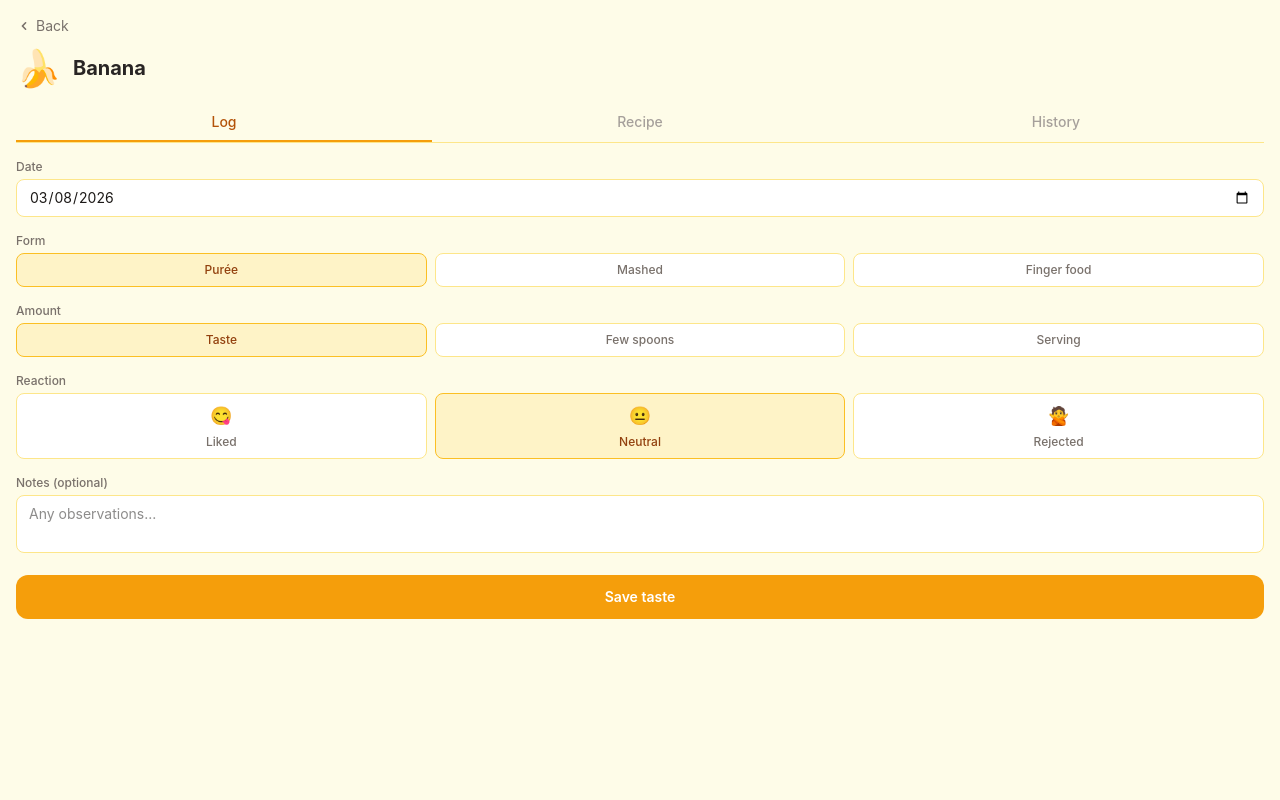
Test: logging a taste via the UI › button shows 'Saved!' feedback after saving
Click the button "Save taste" at {"x": 640, "y": 597}, box [16, 575, 1264, 619]
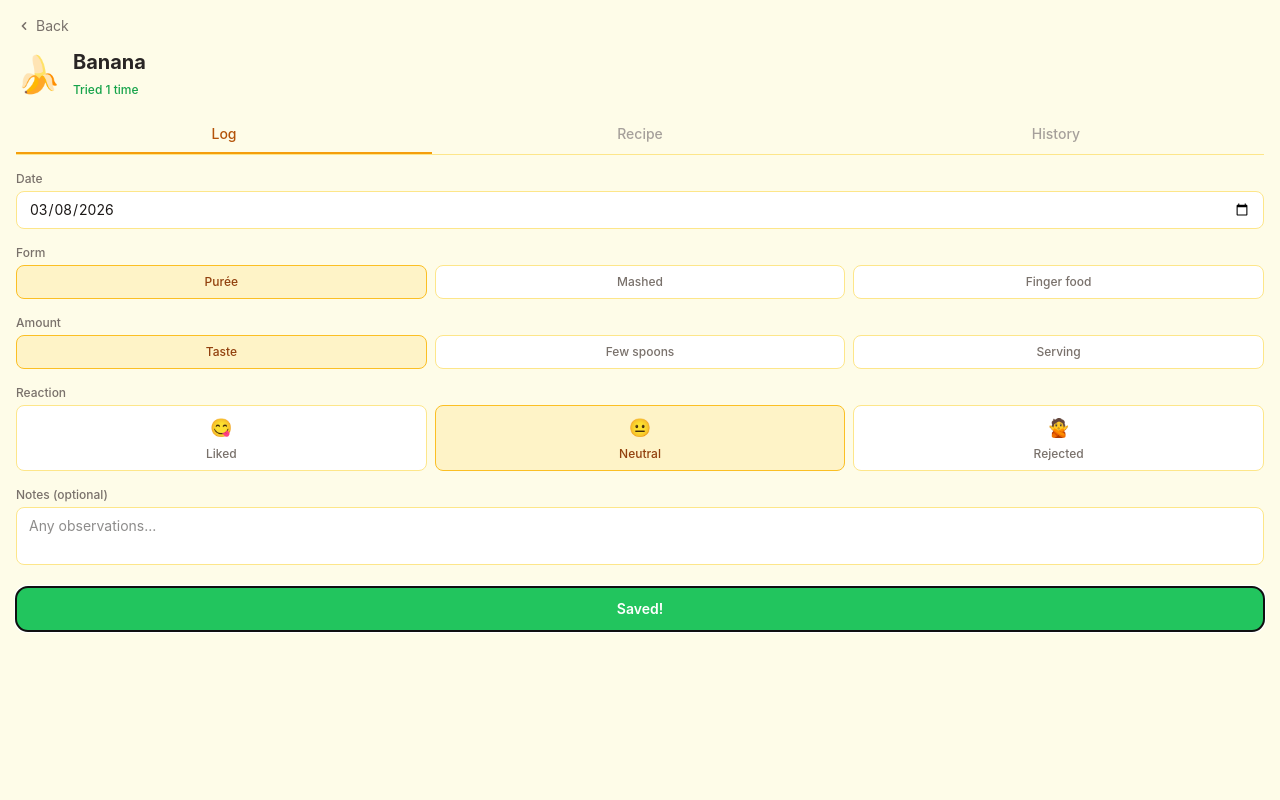
Expected: the button "Saved!" is shown, [16, 587, 1264, 631]
